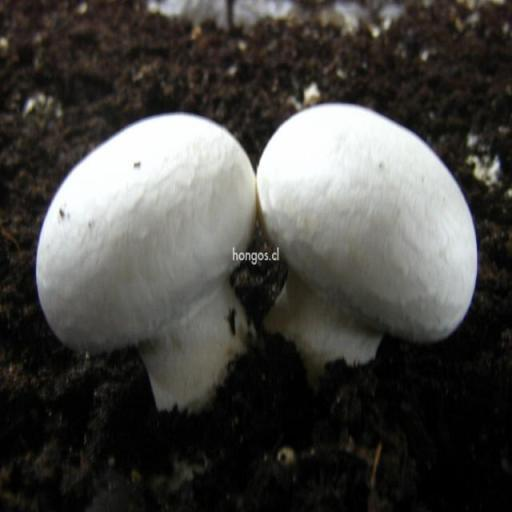mushroom: (38, 113, 261, 410), (260, 102, 478, 370)
